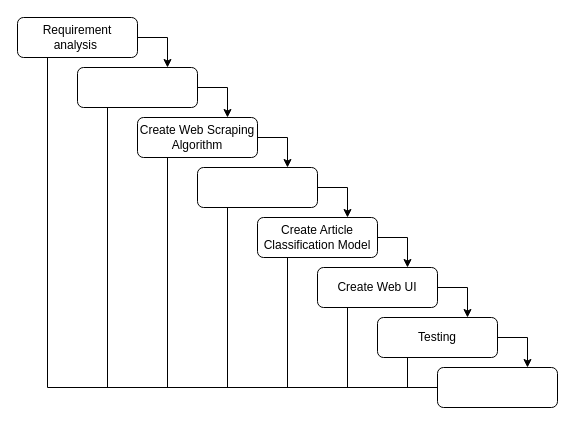
This 575x425 diagram has some shape labels left out. Each missing label, with the centre of its shape:
"Create Sentiment Analysis Model" belongs at [257,187].
"Data Collection" belongs at [137,87].
"Documentation" belongs at [497,387].
